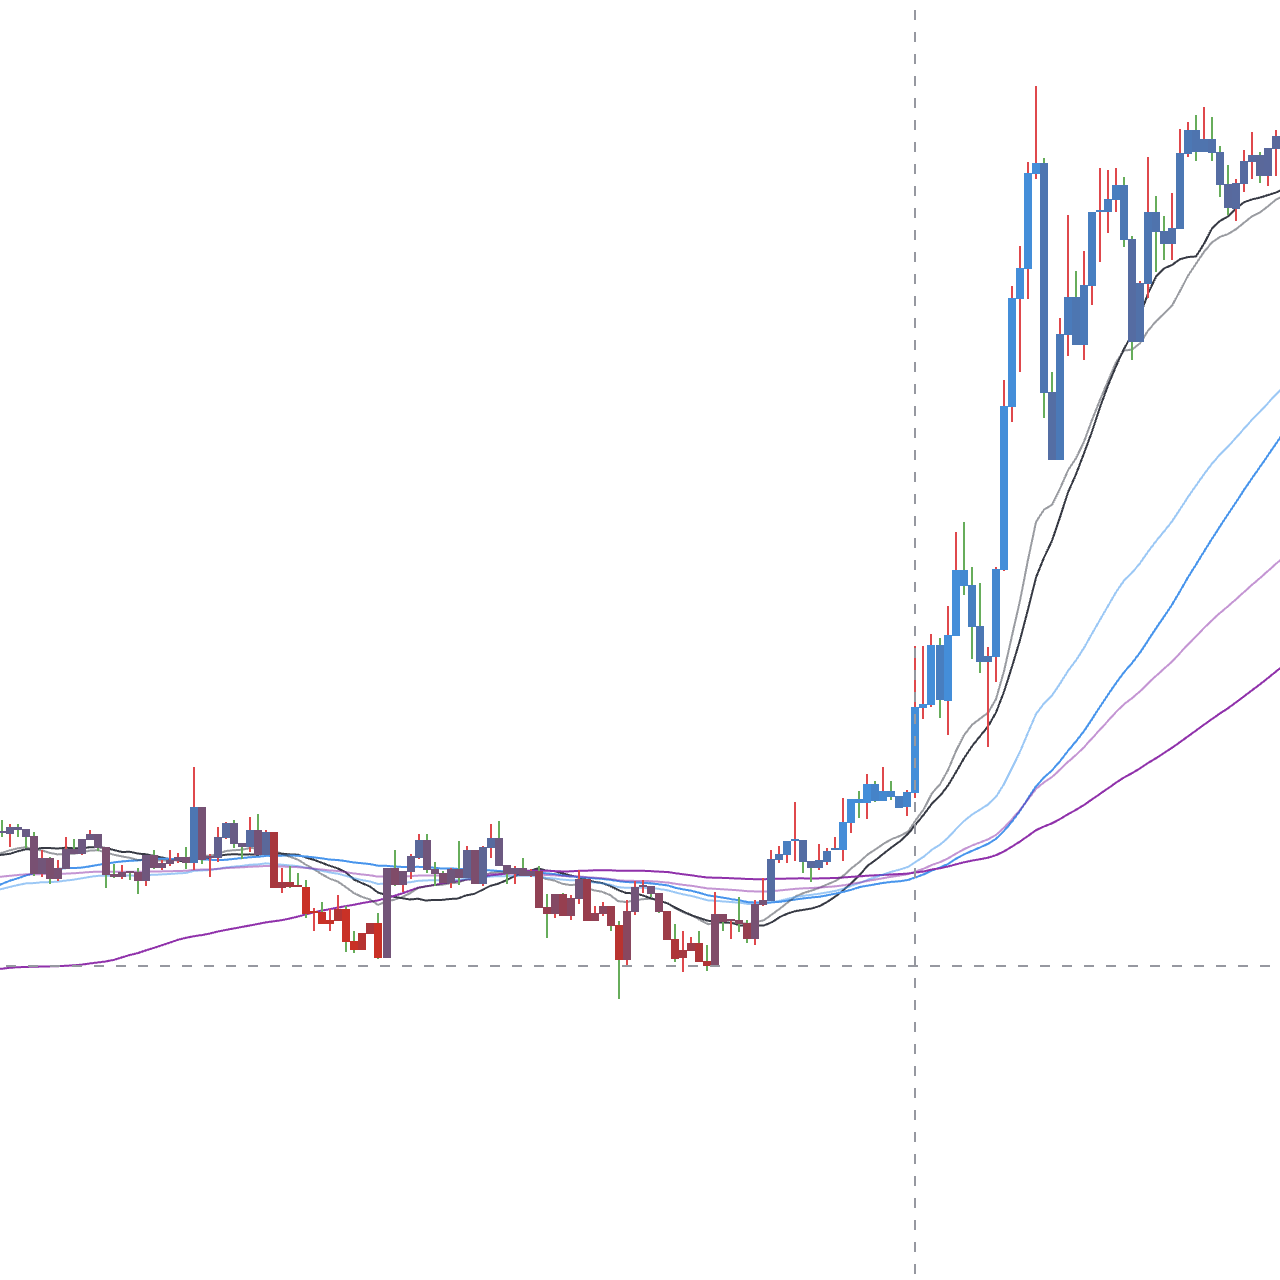ma_cluster: (719, 795, 920, 921)
